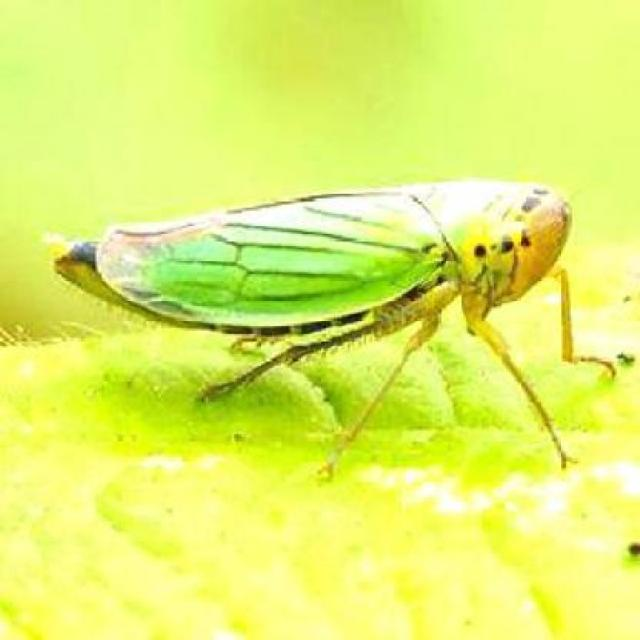green-leafhopper: (52, 181, 622, 469)
